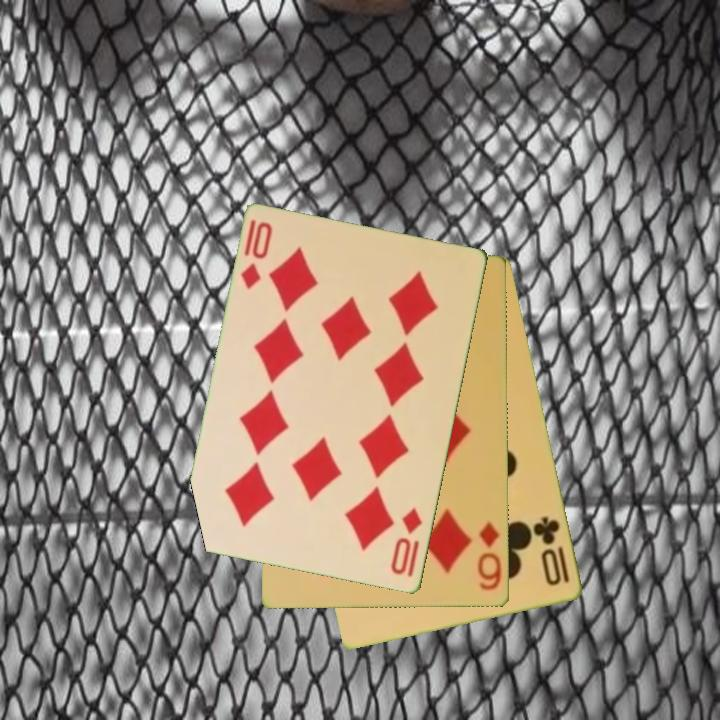10c: (530, 513, 573, 590)
10d: (238, 216, 276, 293), (387, 505, 426, 578)
6d: (475, 518, 505, 593)
